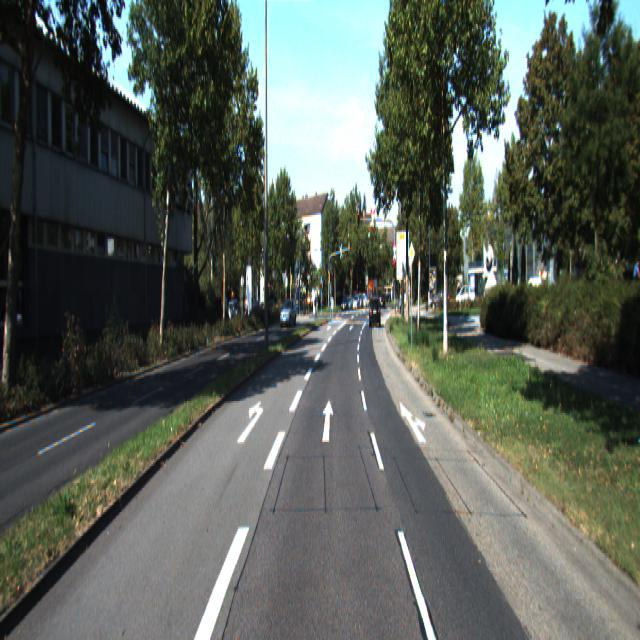Car: (280, 298, 296, 328), (370, 295, 380, 328)
